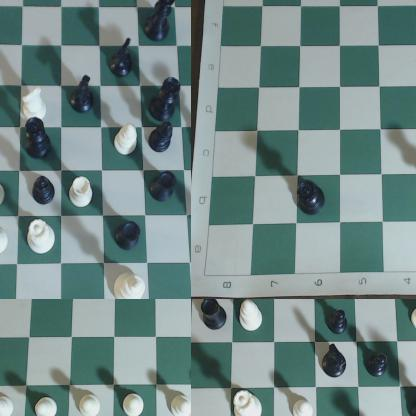black-bishop: (30, 173, 57, 206), (149, 121, 175, 153)
black-king: (143, 1, 178, 42)
black-knight: (320, 342, 349, 382), (110, 38, 136, 78), (71, 74, 96, 114)
black-pawn: (365, 348, 394, 382), (326, 307, 351, 340)
black-queen: (149, 76, 183, 120), (296, 177, 328, 216), (24, 118, 53, 161)
black-rook: (148, 172, 178, 205), (114, 220, 142, 252), (201, 300, 229, 331)
white-bishop: (237, 300, 266, 332), (115, 123, 140, 157)
white-king: (113, 272, 148, 299)
white-knight: (20, 86, 50, 122), (1, 173, 9, 211)
white-pawn: (76, 391, 106, 416), (121, 390, 147, 416), (32, 395, 60, 416), (171, 388, 191, 416), (1, 389, 20, 416), (291, 399, 316, 416)
white-queen: (24, 219, 59, 255), (229, 387, 265, 416)
white-rook: (69, 176, 93, 208), (1, 224, 13, 259)
